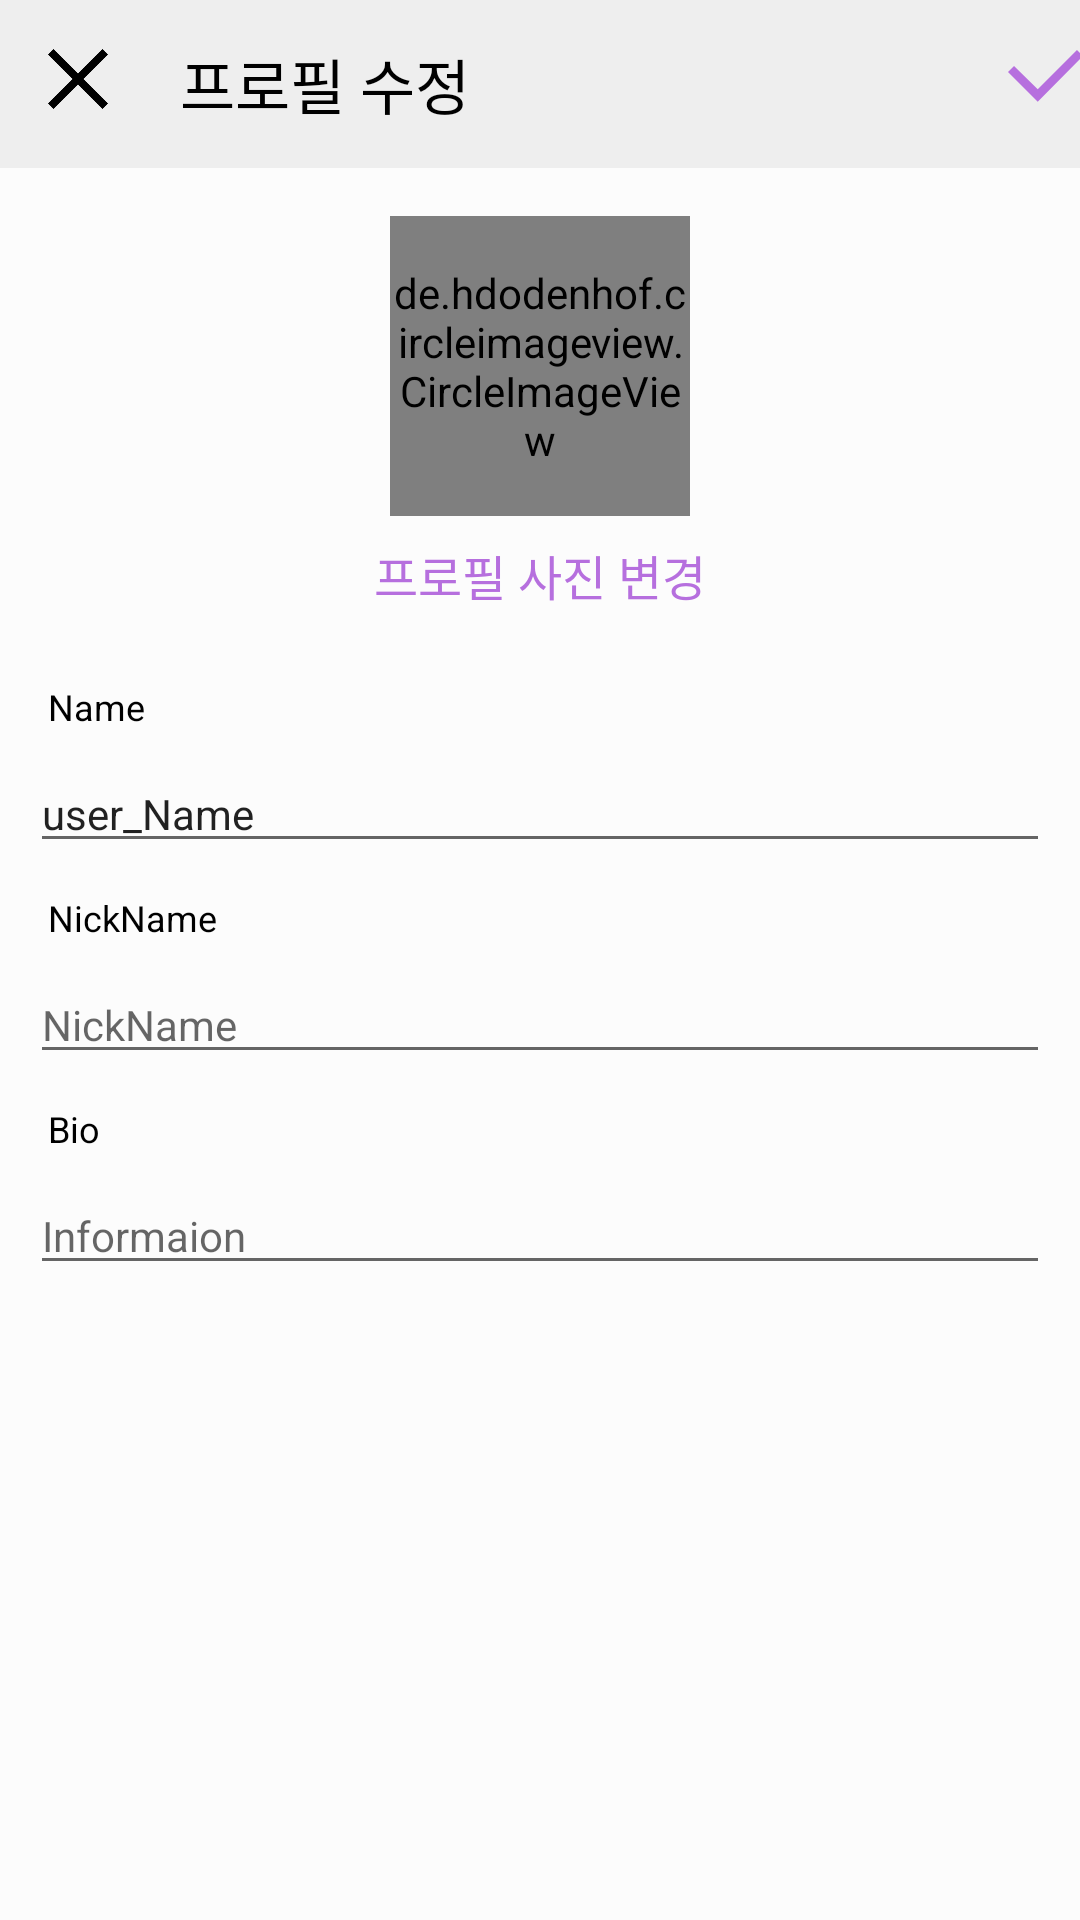

Icon bounding boxes for this 1080px×1920px phone screenshot, format {"x1": x1, "y1": y1, "x2": x2, "y2": y2}:
ccancle: {"x1": 48, "y1": 49, "x2": 108, "y2": 109}
yes: {"x1": 1008, "y1": 50, "x2": 1080, "y2": 102}
